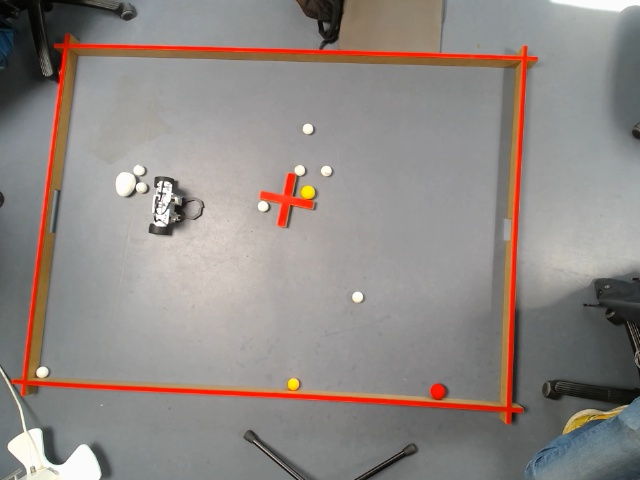big_goal: (36, 183, 64, 231)
cross: (255, 170, 316, 225)
egg: (113, 170, 134, 197)
orange: (286, 375, 298, 389)
robot: (144, 171, 208, 237)
small_goal: (494, 216, 515, 245)
wall: (16, 33, 78, 396), (6, 378, 522, 413), (55, 43, 539, 74), (498, 42, 526, 420)
white: (321, 162, 332, 174), (135, 180, 146, 192), (35, 363, 46, 374), (292, 164, 304, 174), (133, 165, 146, 174), (303, 122, 313, 132), (352, 290, 361, 300), (256, 201, 266, 210)
